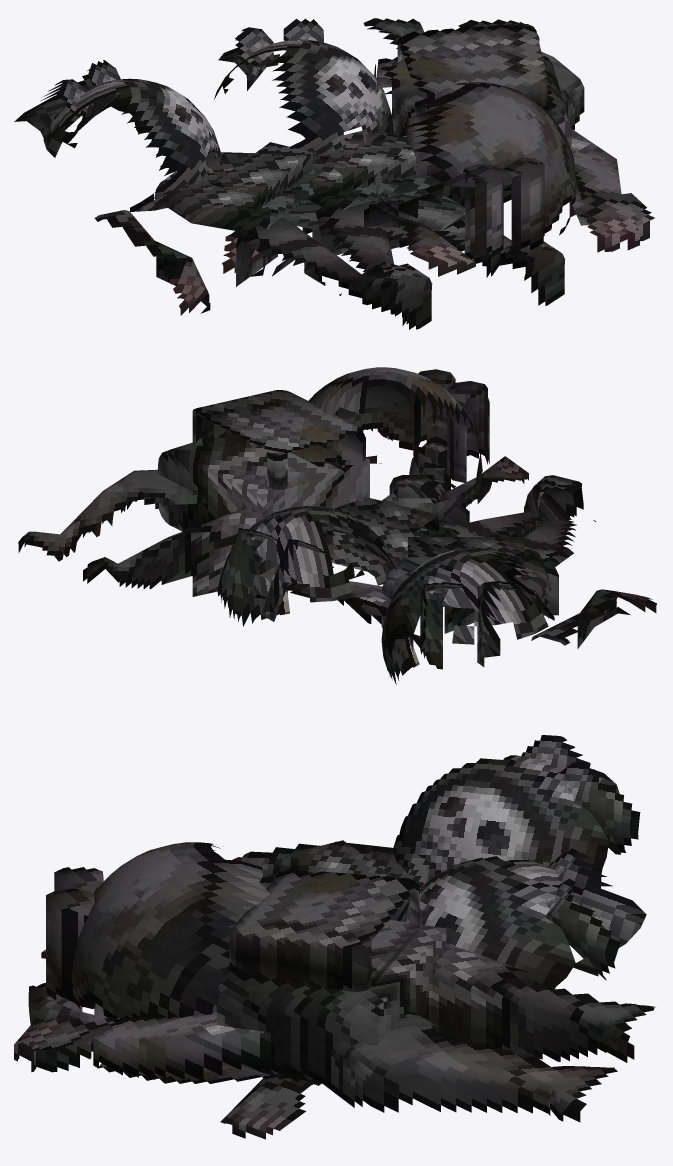
3 renders of one model, top to bottom at view 1: azimuth 30°, elevation 25°; view 2: azimuth 150°, elevation 25°; view 3: azimuth 270°, elevation 25°, orthographic. The views are drawn at different scales.
Parts seen in each view (by area): view 1: 25D_BG_DeadMan_DeadArmyBack, 25D_BG_DeadMan_DeadArmyFront_1, 25D_BG_DeadMan_DeadArmyFront; view 2: 25D_BG_DeadMan_DeadArmyBack, 25D_BG_DeadMan_DeadArmyFront_1, 25D_BG_DeadMan_DeadArmyFront; view 3: 25D_BG_DeadMan_DeadArmyBack, 25D_BG_DeadMan_DeadArmyFront_1, 25D_BG_DeadMan_DeadArmyFront.
Boxes of the visible parts, box(x1,y1,x2,y2) form: 25D_BG_DeadMan_DeadArmyBack: box(363, 18, 654, 276); 25D_BG_DeadMan_DeadArmyFront_1: box(14, 60, 500, 325); 25D_BG_DeadMan_DeadArmyFront: box(214, 18, 576, 329); 25D_BG_DeadMan_DeadArmyBack: box(18, 367, 528, 596); 25D_BG_DeadMan_DeadArmyFront_1: box(255, 475, 657, 684); 25D_BG_DeadMan_DeadArmyFront: box(217, 442, 583, 633); 25D_BG_DeadMan_DeadArmyBack: box(14, 842, 655, 1122); 25D_BG_DeadMan_DeadArmyFront_1: box(232, 735, 640, 920); 25D_BG_DeadMan_DeadArmyFront: box(28, 848, 646, 1139).
Bounding box in the file's own units: 1.15 × 0.3634 × 1.03.
Materials: 1 (1 with a texture image).
